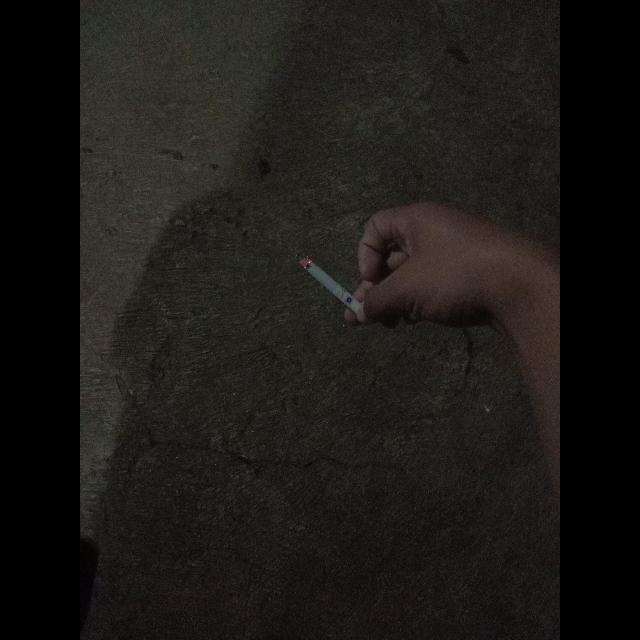rokok: (300, 254, 364, 312)
